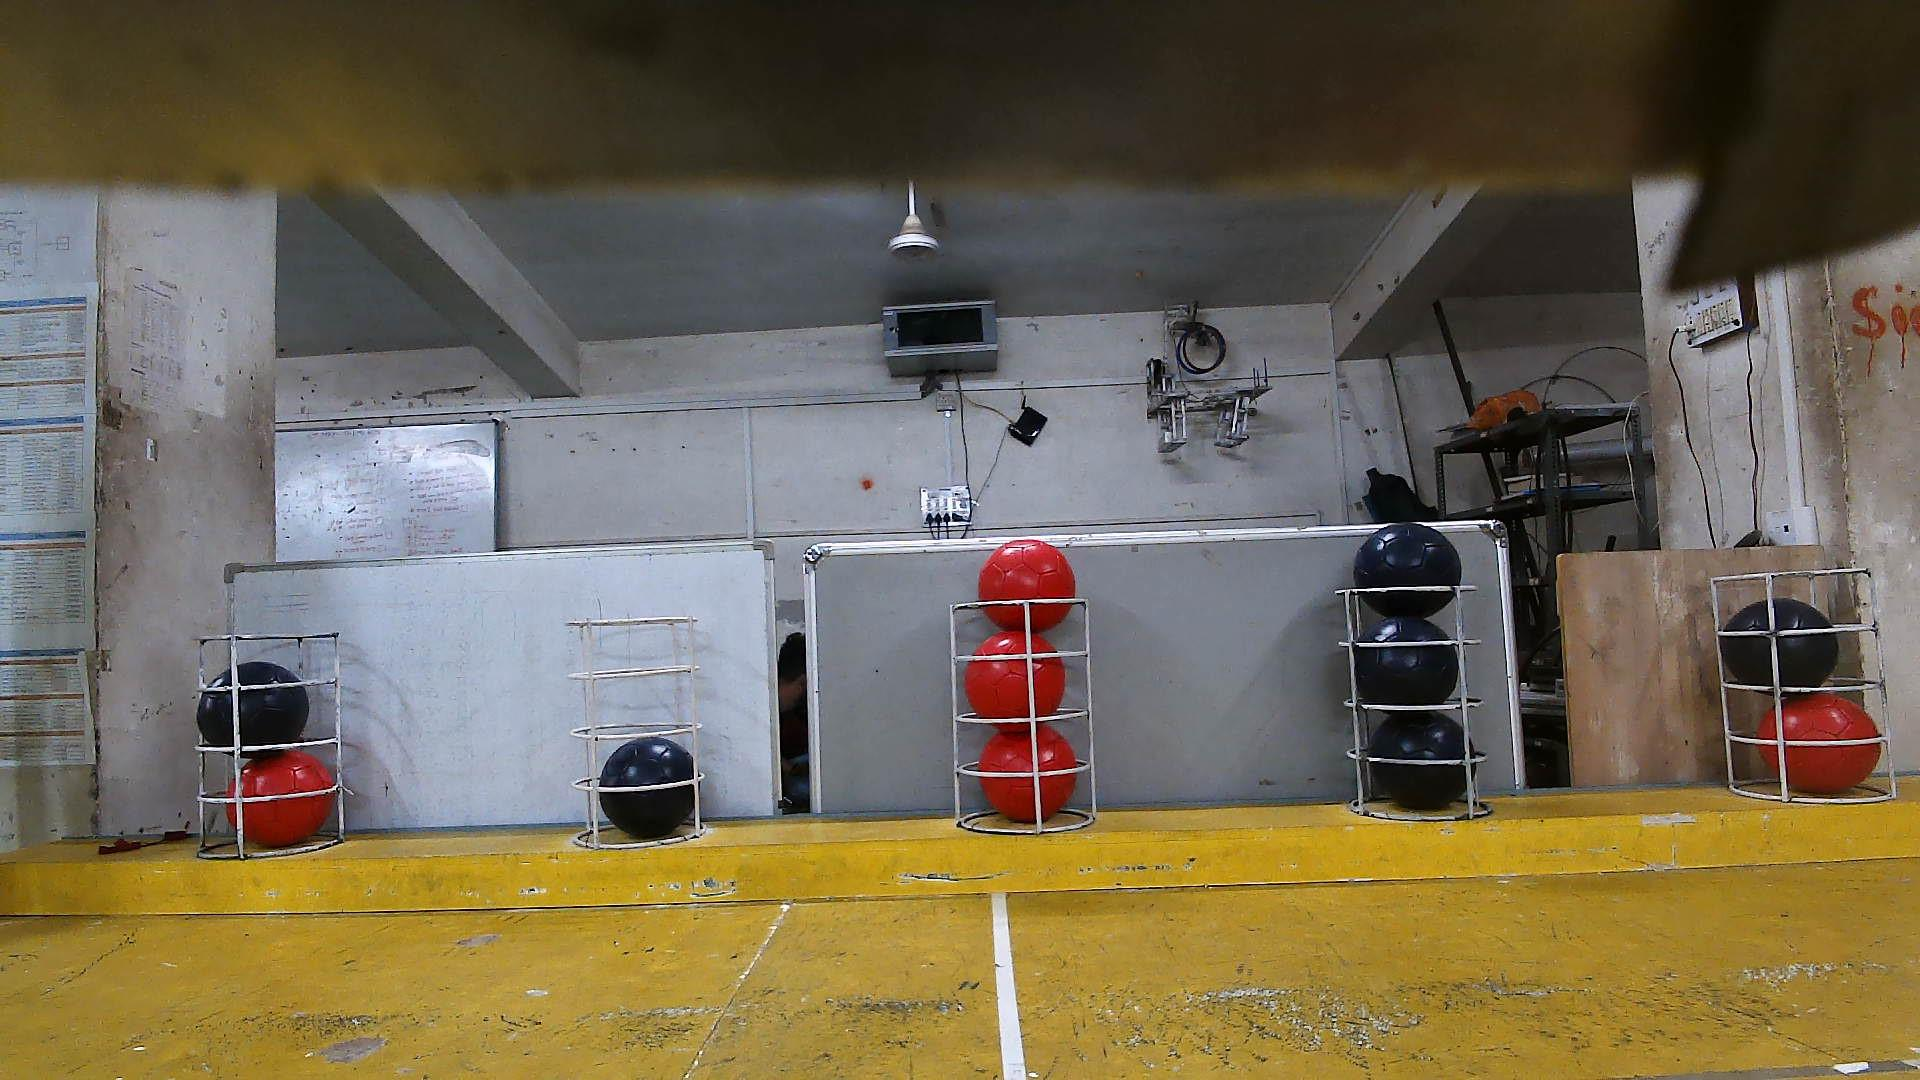dhoka: (1369, 712, 1485, 810), (195, 661, 307, 757), (1354, 521, 1462, 618), (1721, 600, 1837, 690), (600, 738, 694, 840), (1354, 615, 1455, 705)
laale: (1755, 694, 1883, 795), (225, 750, 334, 848), (982, 724, 1084, 825), (972, 626, 1072, 720), (978, 541, 1076, 634)
